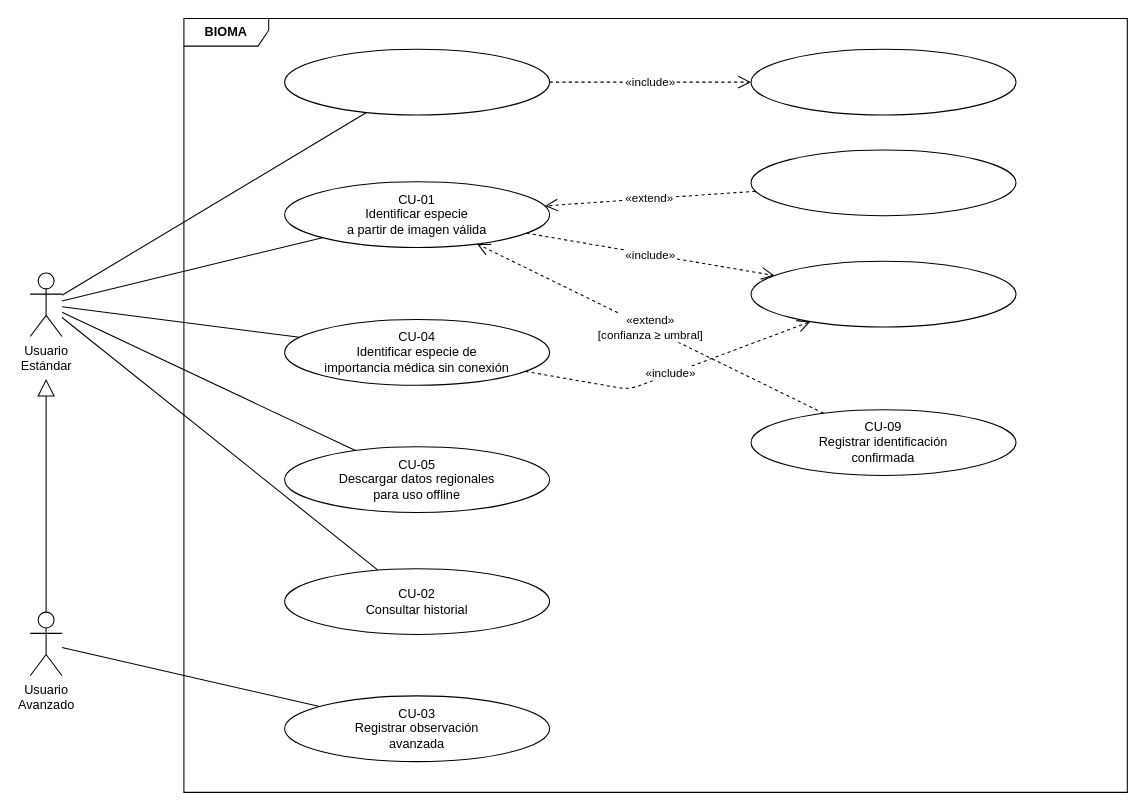
Some shapes in this 1146 by 811 pixel diagram are drawn without their labels. Here are the shapes that lost their labels. From the top down, the box of each, then its label:
(284, 48, 550, 115): CU-06 Capturar imagen
(750, 48, 1016, 115): CU-07 Verificar calidad de imagen
(750, 149, 1016, 216): CU-08 Consultar información de especie
(750, 260, 1016, 327): CU-10 Consultar nivel de confianza
